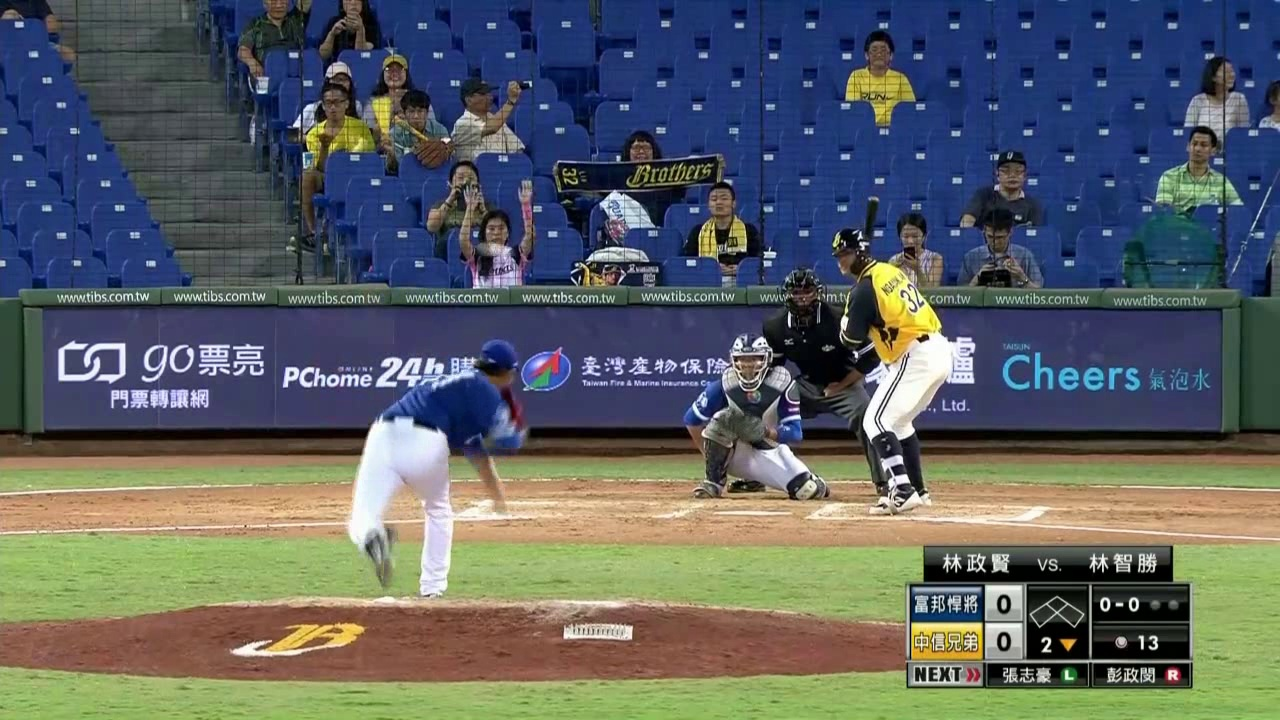ball: (488, 239, 508, 257)
base: (1026, 592, 1087, 629)
bat: (851, 193, 881, 302)
out: (1144, 589, 1186, 616)
score1: (986, 588, 1022, 618)
score2: (986, 624, 1023, 657)
session: (1027, 629, 1086, 657)
strikeball: (1095, 590, 1142, 618)
total: (1093, 628, 1188, 658)
